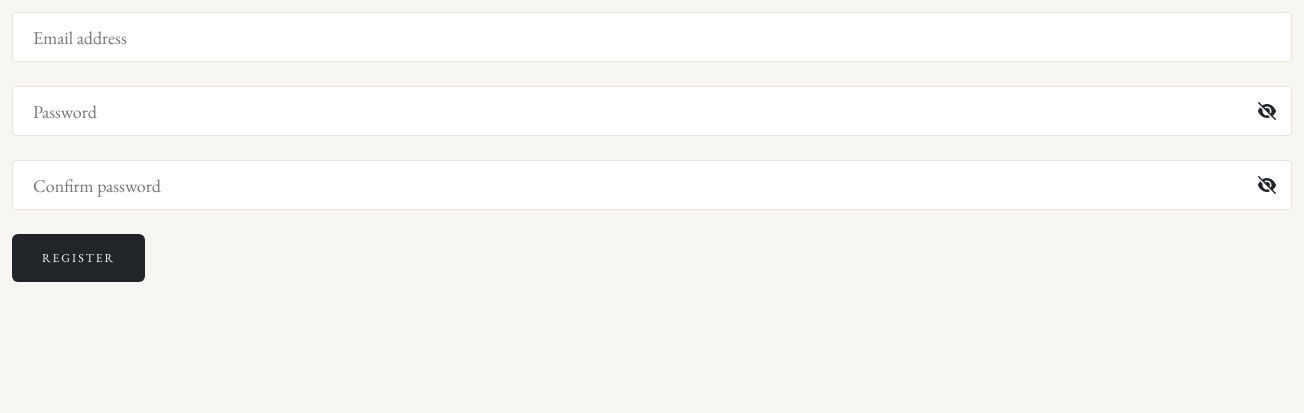
Test case: RegisterForm component › shows error messages for missing fields
Click the button "Register".
click(79, 258)  # box [12,234,145,282]
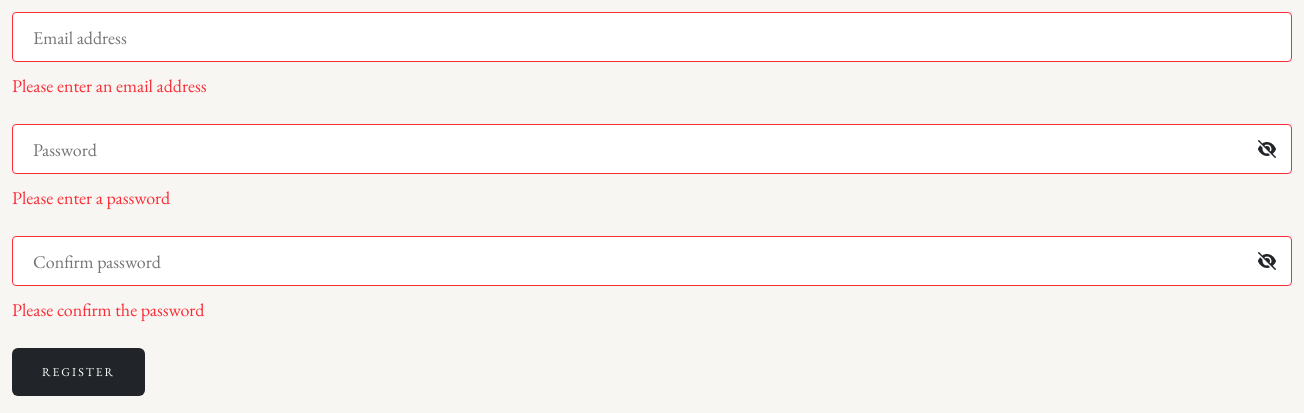
Now the text "Please enter an email address" is shown, box [12,74,207,97]
Now the text "Please enter a password" is shown, box [12,186,170,209]
Now the text "Please confirm the password" is shown, box [12,298,204,321]
